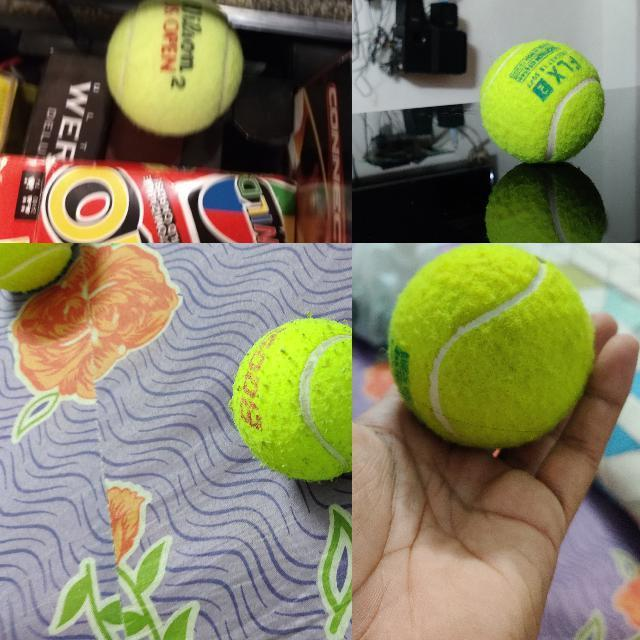tennis-ball: (386, 244, 596, 449), (231, 317, 351, 483), (103, 0, 245, 138), (479, 39, 605, 163), (0, 243, 75, 293)
